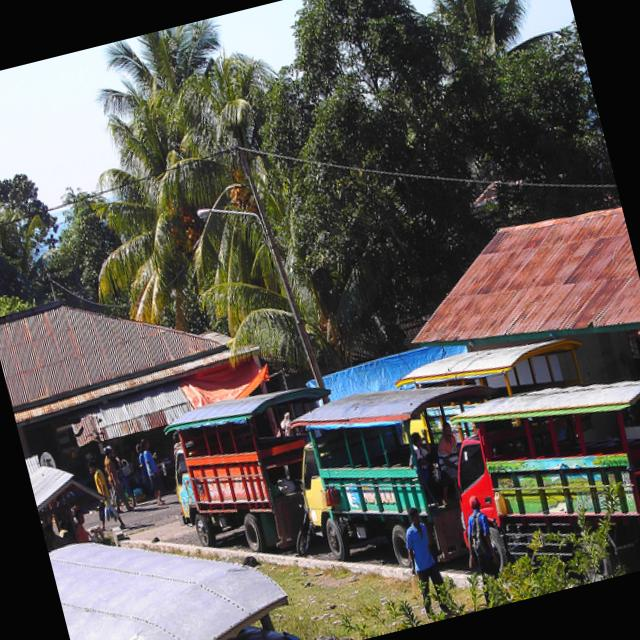Vehicle: (276, 355, 526, 593), (430, 354, 640, 610), (156, 375, 366, 566), (391, 322, 592, 428)
